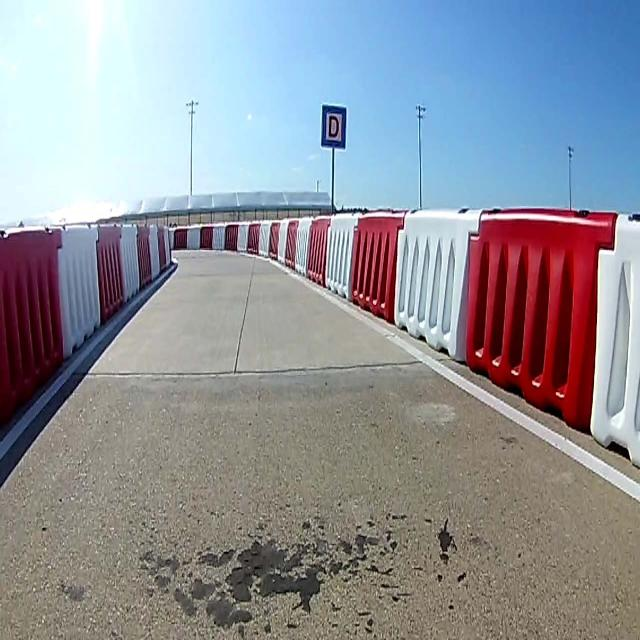durak: (321, 105, 346, 148)
